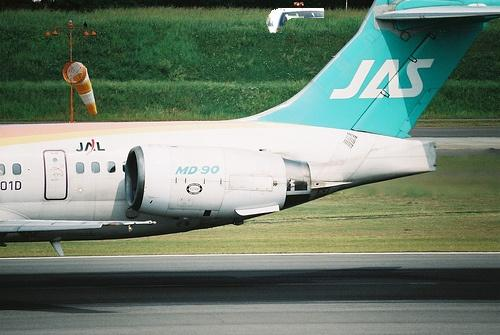tampered: (267, 9, 324, 33)
